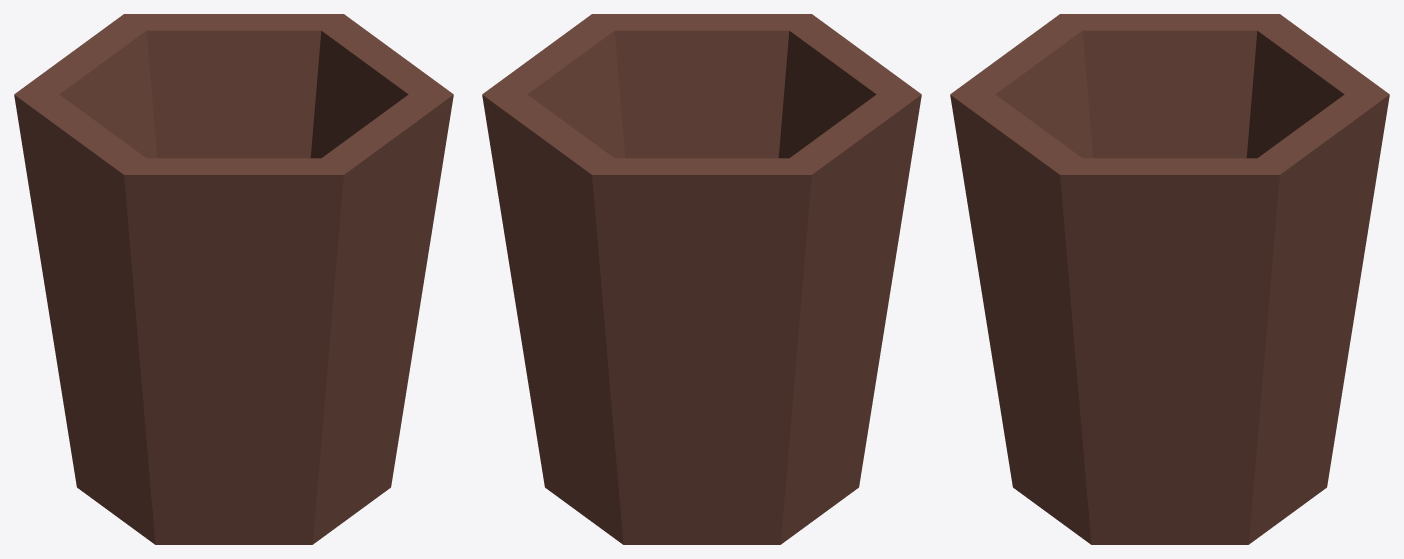
The model's file is Copo.fbx.
3 renders of one model, left to right at view 1: azimuth 30°, elevation 25°; view 2: azimuth 150°, elevation 25°; view 3: azimuth 270°, elevation 25°, orthographic.
Visible parts, largest first — view 1: Cilindro.009; view 2: Cilindro.009; view 3: Cilindro.009.
Part boxes in pixels (<box>): Cilindro.009: <box>14,14,453,544</box>; Cilindro.009: <box>482,14,921,544</box>; Cilindro.009: <box>950,14,1389,544</box>.
Size of the model in its own units: 13.29 by 15.13 by 15.35.
